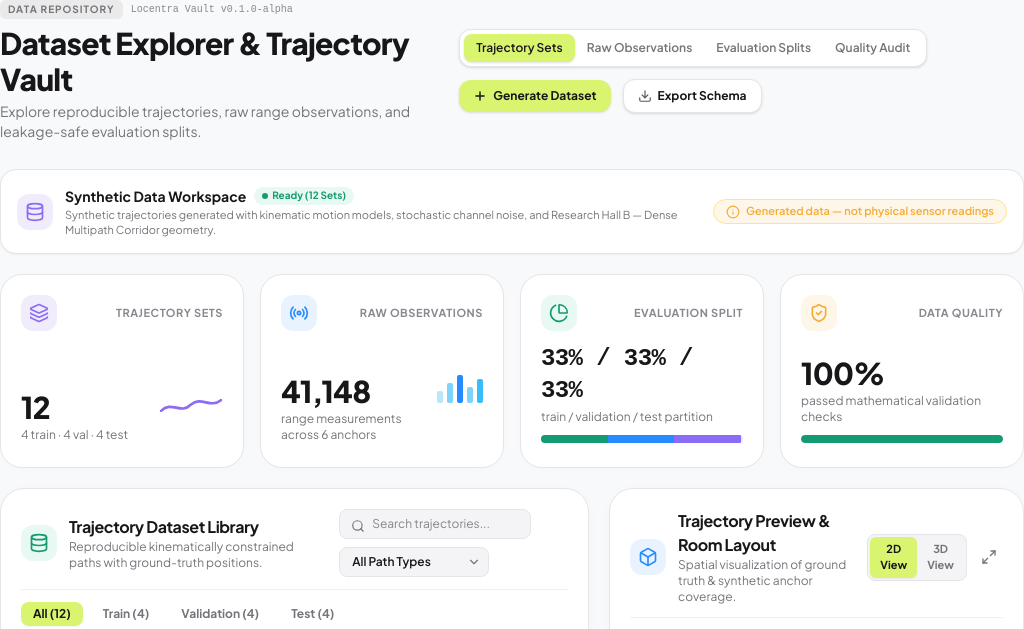
Test case: Phase 6.6: Dataset Explorer & Trajectory Vault Suite › UI Rendering, Tab Navigation, and User Interactions › switches tabs to Raw Observations, Evaluation Splits, and Quality Audit
Note: Switch to Raw Observations
Click the button "Raw Observations": x=640, y=48 top-left (575, 34), bottom-right (704, 62)
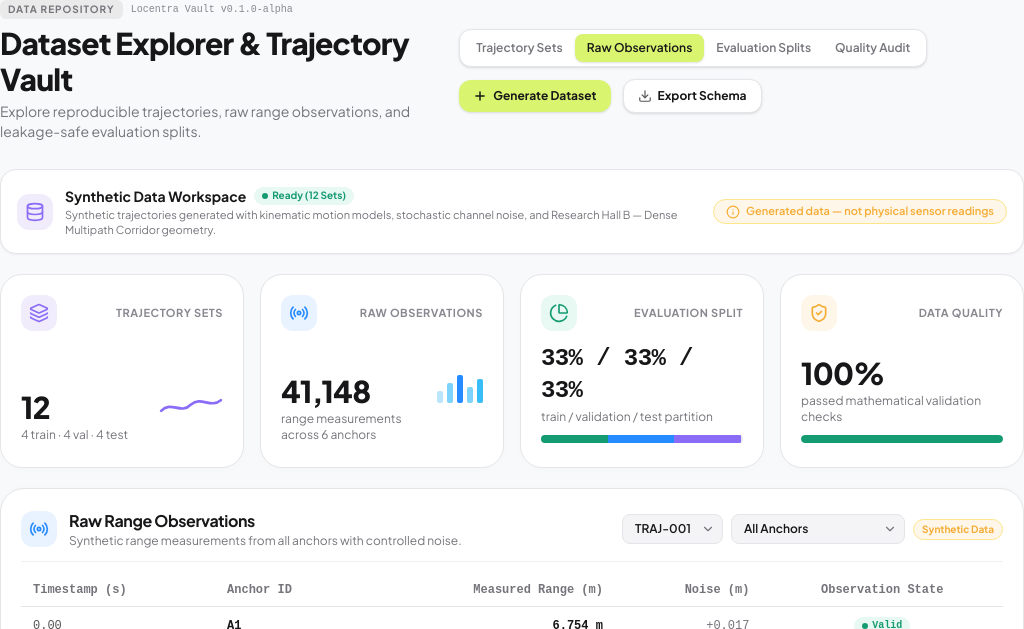
Expected: the text "Synthetic range measurements from all anchors" is shown, top-left (69, 533), bottom-right (462, 548)
Note: Switch to Evaluation Splits
Click the button "Evaluation Splits": x=764, y=48 top-left (704, 34), bottom-right (823, 62)
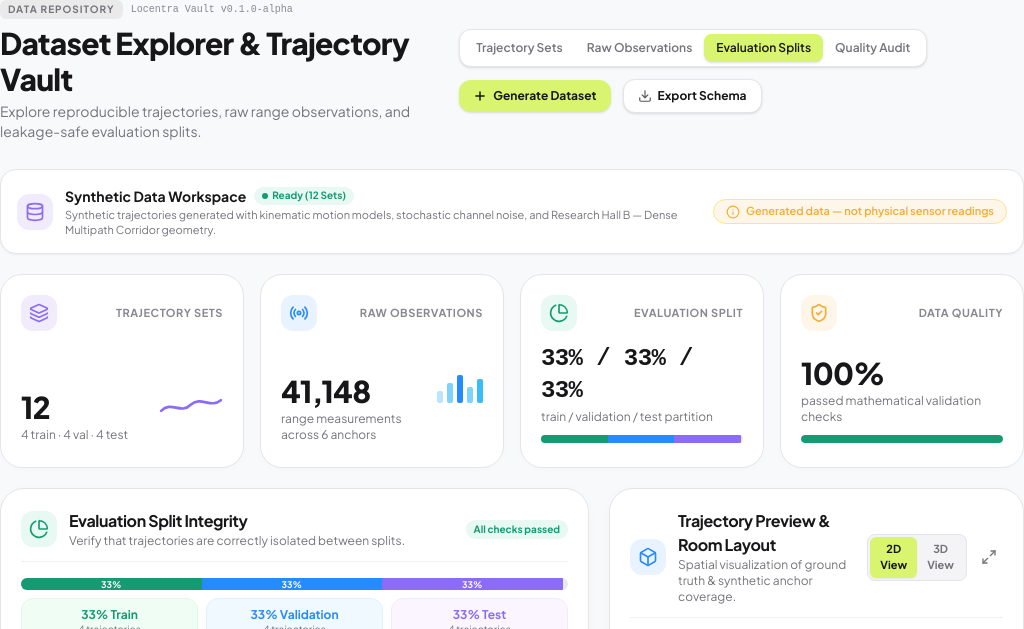
Result: the text "Verify that trajectories are correctly isolated" is shown at top-left (69, 533), bottom-right (405, 548)
Note: Switch to Quality Audit
Click the button "Quality Audit": x=873, y=48 top-left (823, 34), bottom-right (922, 62)
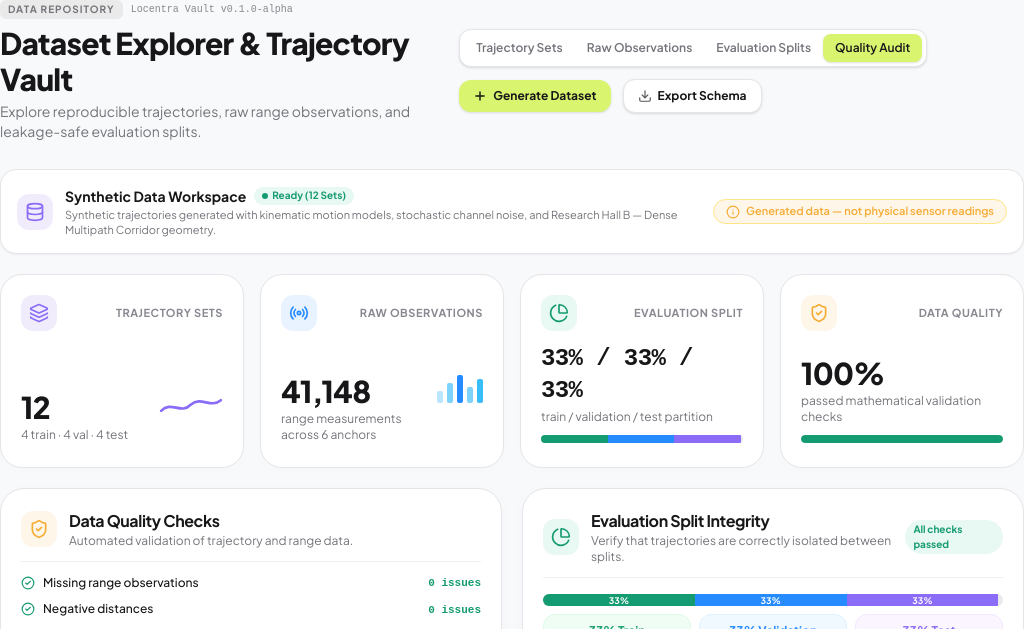
Result: the text "Automated validation of trajectory and range data." is shown at top-left (69, 533), bottom-right (353, 549)
